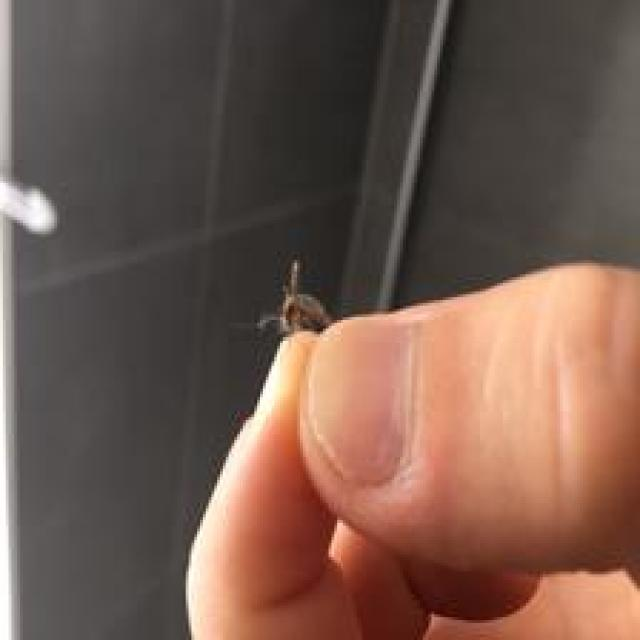Culex: (253, 256, 336, 341)
